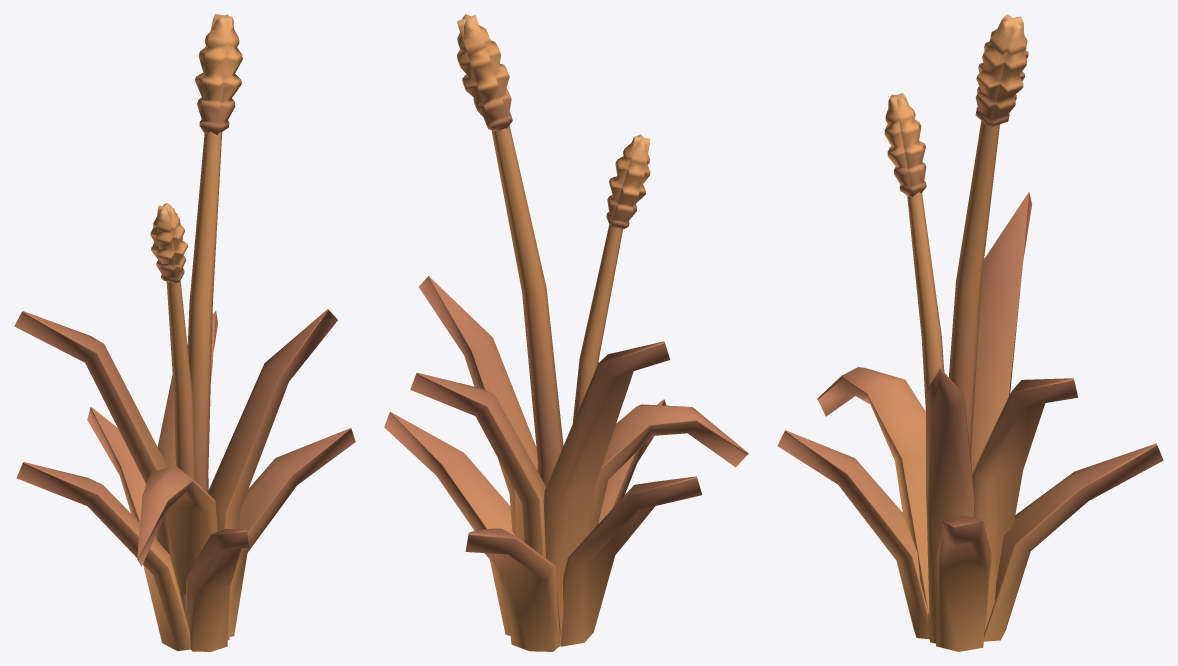
File: Plants_009.fbx
3 renders of one model, left to right at view 1: azimuth 30°, elevation 25°; view 2: azimuth 150°, elevation 25°; view 3: azimuth 270°, elevation 25°, orthographic. The views are drawn at different scales.
Visible parts, largest first — view 1: Plants.009; view 2: Plants.009; view 3: Plants.009.
Boxes of the visible parts, left/top/right/bottom form: Plants.009: left=14, top=14, right=355, bottom=651; Plants.009: left=384, top=14, right=748, bottom=651; Plants.009: left=777, top=14, right=1163, bottom=651.
Bounding box in the file's own units: 482 × 848 × 462.
